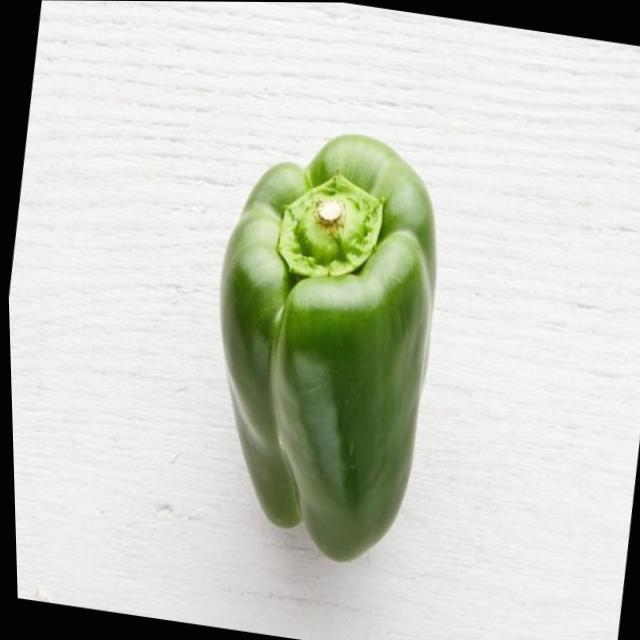Capsicum: (178, 112, 460, 571)
